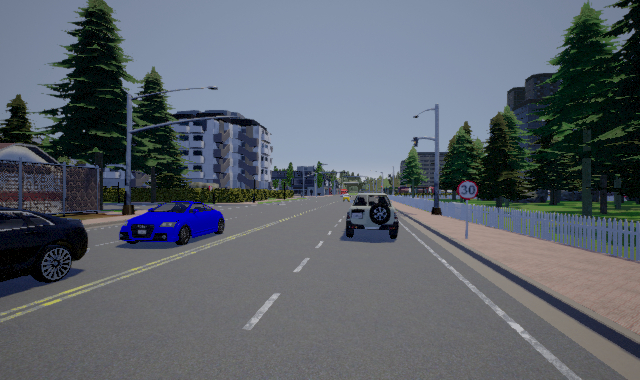traffic_light: (413, 137, 418, 147)
traffic_sign: (457, 180, 478, 200)
vehicle: (1, 206, 90, 283), (119, 201, 225, 245), (340, 189, 399, 239)
